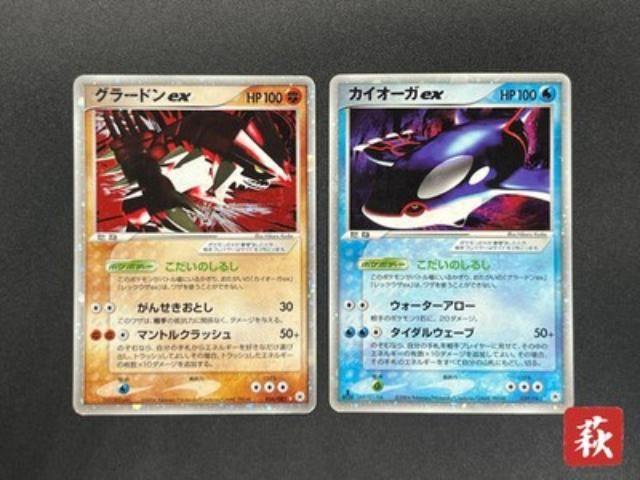Card: (326, 70, 576, 419), (70, 71, 320, 419)
Name: (343, 83, 448, 106), (90, 85, 194, 106)
